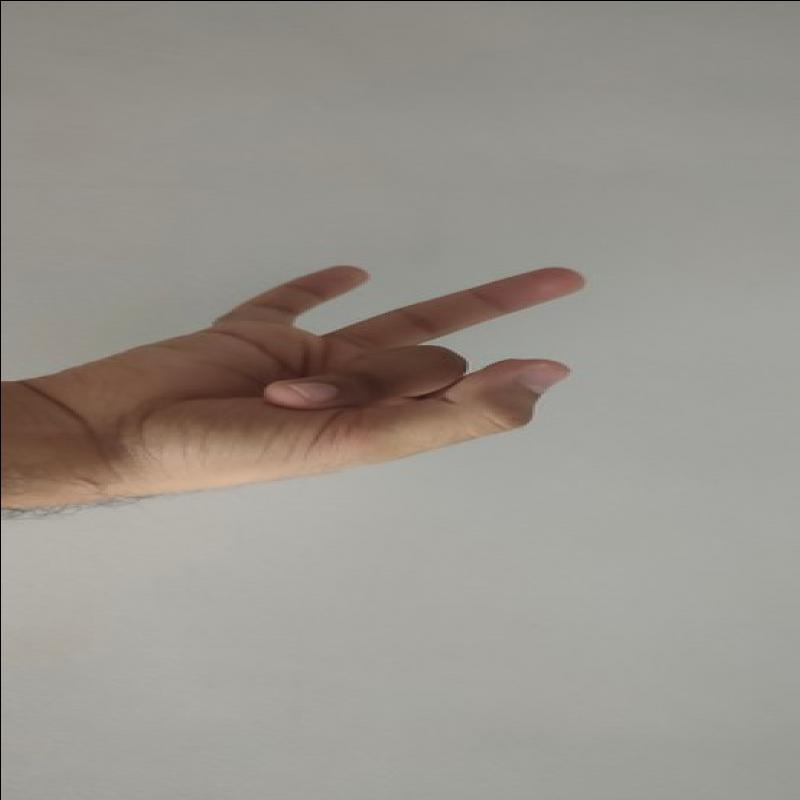Katakam: (34, 198, 596, 521)
